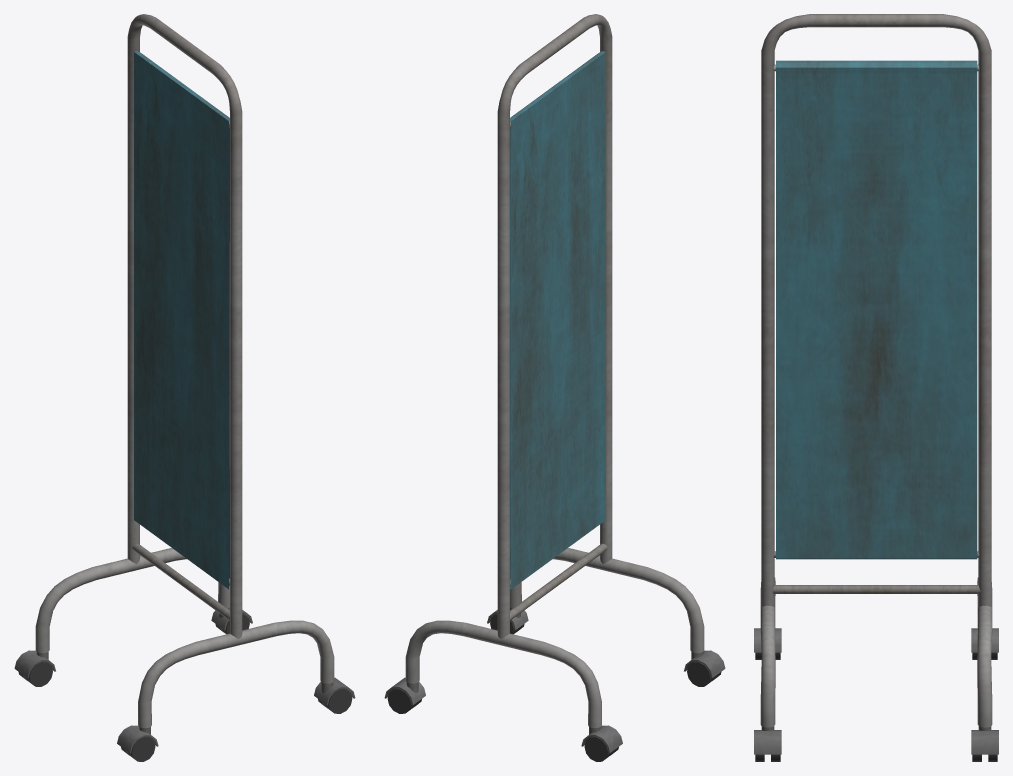
The model's file is curtain.glb.
3 views of the same model, side by side, from view 1: azimuth 30°, elevation 25°; view 2: azimuth 150°, elevation 25°; view 3: azimuth 270°, elevation 25° (orthographic). The views are drawn at different scales.
Visible parts, largest first — view 1: Cylinder.001; view 2: Cylinder.001; view 3: Cylinder.001.
Boxes of the visible parts, x1,y1,x2,y2 form: Cylinder.001: (14,14,355,761); Cylinder.001: (384,14,725,761); Cylinder.001: (754,14,998,761).
Size of the model in its own units: 0.668 by 1.85 by 0.5919.
Materials: 1 (1 with a texture image).
